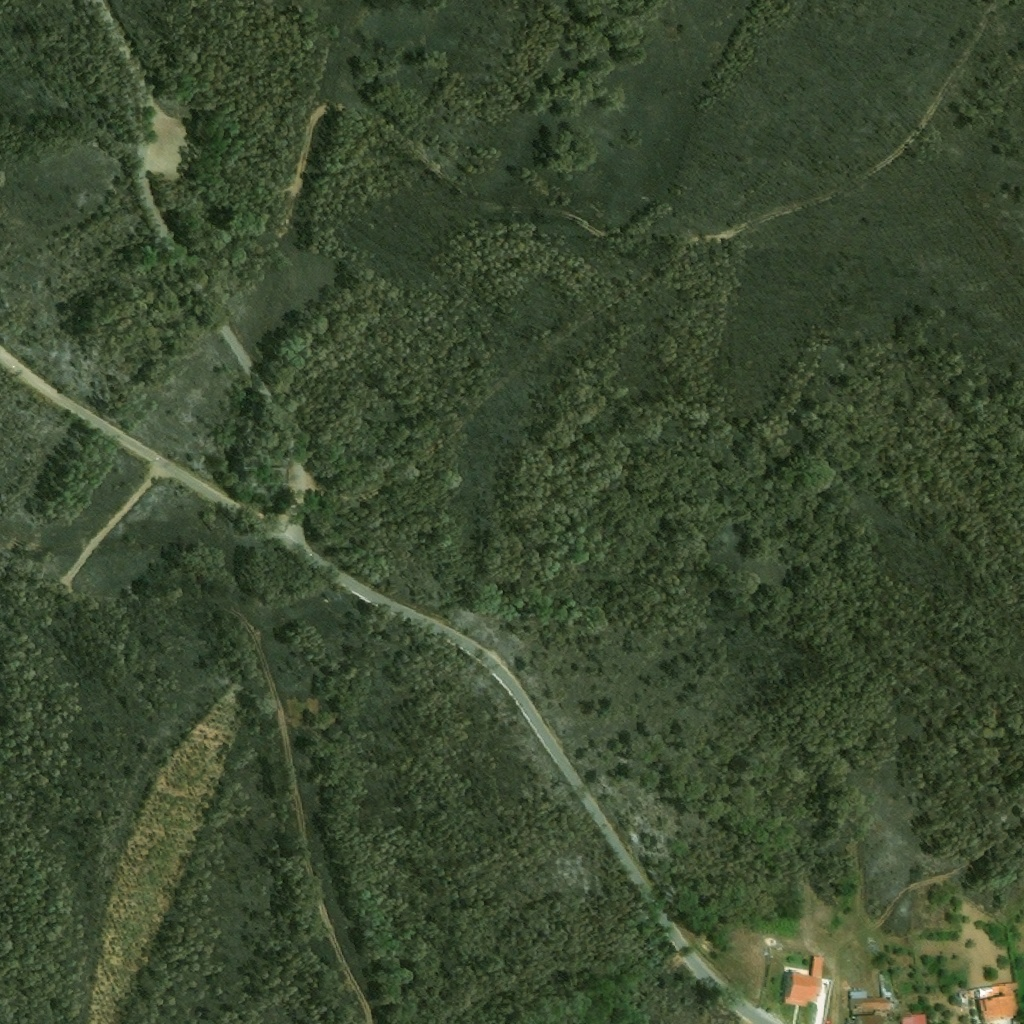0 no-damage: (849, 972, 906, 1021), (956, 982, 1018, 1022), (782, 955, 823, 1007), (899, 1013, 927, 1023), (855, 1015, 888, 1023)
4 un-classified: (256, 463, 292, 493)
